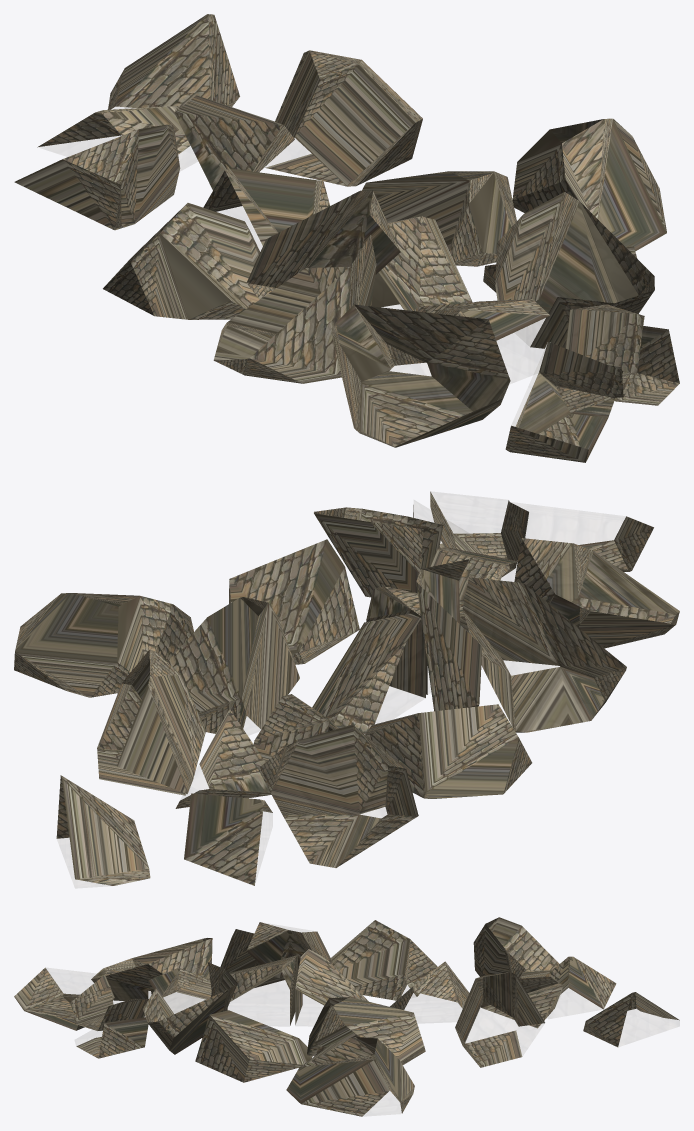
The model's file is BreakWallSmall_000022.obj.
3 renders of one model, top to bottom at view 1: azimuth 30°, elevation 25°; view 2: azimuth 150°, elevation 25°; view 3: azimuth 270°, elevation 25°, orthographic. The views are drawn at different scales.
Parts seen in each view (by area): view 1: Cube.002_cell.013_Cube.002_cell.012, Cube.002_cell.004_Cube.002_cell.003, Cube.002_cell.014_Cube.002_cell.013, Cube.002_cell.017_Cube.002_cell.016, Cube.002_cell.012_Cube.002_cell.011, Cube.002_cell.003_Cube.002_cell.002, Cube.002_cell.010_Cube.002_cell.009, Cube.002_cell.002_Cube.002_cell.001, Cube.002_cell.015_Cube.002_cell.014, Cube.002_cell.009_Cube.002_cell.008, Cube.002_cell.005_Cube.002_cell.004, Cube.002_cell.008_Cube.002_cell.007 (+6 smaller); view 2: Cube.002_cell.017_Cube.002_cell.016, Cube.002_cell.010_Cube.002_cell.009, Cube.002_cell.003_Cube.002_cell.002, Cube.002_cell.015_Cube.002_cell.014, Cube.002_cell.012_Cube.002_cell.011, Cube.002_cell.014_Cube.002_cell.013, Cube.002_cell.013_Cube.002_cell.012, Cube.002_cell.016_Cube.002_cell.015, Cube.002_cell.006_Cube.002_cell.005, Cube.002_cell.004_Cube.002_cell.003, Cube.002_cell.009_Cube.002_cell.008, Cube.002_cell.005_Cube.002_cell.004 (+7 smaller); view 3: Cube.002_cell.003_Cube.002_cell.002, Cube.002_cell.016_Cube.002_cell.015, Cube.002_cell.012_Cube.002_cell.011, Cube.002_cell.015_Cube.002_cell.014, Cube.002_cell.014_Cube.002_cell.013, Cube.002_cell.010_Cube.002_cell.009, Cube.002_cell.013_Cube.002_cell.012, Cube.002_cell.004_Cube.002_cell.003, Cube.002_cell.002_Cube.002_cell.001, Cube.002_cell.006_Cube.002_cell.005, Cube.002_cell.009_Cube.002_cell.008, Cube.002_cell.007_Cube.002_cell.006 (+8 smaller).
Part boxes in pixels (x1,y1,x2,y2): Cube.002_cell.013_Cube.002_cell.012: (331,304,510,447); Cube.002_cell.004_Cube.002_cell.003: (495,192,654,348); Cube.002_cell.014_Cube.002_cell.013: (265,50,422,186); Cube.002_cell.017_Cube.002_cell.016: (213,234,376,383); Cube.002_cell.012_Cube.002_cell.011: (103,203,260,319); Cube.002_cell.003_Cube.002_cell.002: (512,118,666,251); Cube.002_cell.010_Cube.002_cell.009: (14,124,180,230); Cube.002_cell.002_Cube.002_cell.001: (505,342,623,462); Cube.002_cell.015_Cube.002_cell.014: (362,171,516,266); Cube.002_cell.009_Cube.002_cell.008: (246,190,400,299); Cube.002_cell.005_Cube.002_cell.004: (108,14,239,109); Cube.002_cell.008_Cube.002_cell.007: (371,216,472,313); Cube.002_cell.017_Cube.002_cell.016: (462,577,626,732); Cube.002_cell.010_Cube.002_cell.009: (258,724,418,867); Cube.002_cell.003_Cube.002_cell.002: (14,593,193,697); Cube.002_cell.015_Cube.002_cell.014: (167,597,299,733); Cube.002_cell.012_Cube.002_cell.011: (365,704,532,798); Cube.002_cell.014_Cube.002_cell.013: (97,649,206,795); Cube.002_cell.013_Cube.002_cell.012: (514,538,679,648); Cube.002_cell.016_Cube.002_cell.015: (229,539,359,664); Cube.002_cell.006_Cube.002_cell.005: (312,613,425,733); Cube.002_cell.004_Cube.002_cell.003: (314,507,443,597); Cube.002_cell.009_Cube.002_cell.008: (416,559,482,711); Cube.002_cell.005_Cube.002_cell.004: (56,775,150,885); Cube.002_cell.003_Cube.002_cell.002: (286,1037,414,1116); Cube.002_cell.016_Cube.002_cell.015: (195,1010,312,1082); Cube.002_cell.012_Cube.002_cell.011: (331,920,437,1000); Cube.002_cell.015_Cube.002_cell.014: (307,997,425,1064); Cube.002_cell.014_Cube.002_cell.013: (455,972,544,1067); Cube.002_cell.010_Cube.002_cell.009: (473,917,559,978); Cube.002_cell.013_Cube.002_cell.012: (91,938,212,1000); Cube.002_cell.004_Cube.002_cell.003: (143,962,237,1054); Cube.002_cell.002_Cube.002_cell.001: (14,967,114,1030); Cube.002_cell.006_Cube.002_cell.005: (295,949,368,1025); Cube.002_cell.009_Cube.002_cell.008: (246,922,332,978); Cube.002_cell.007_Cube.002_cell.006: (71,986,148,1030).
Size of the model in its own units: 29.65 by 6.67 by 51.
2 materials, 2 textured.
